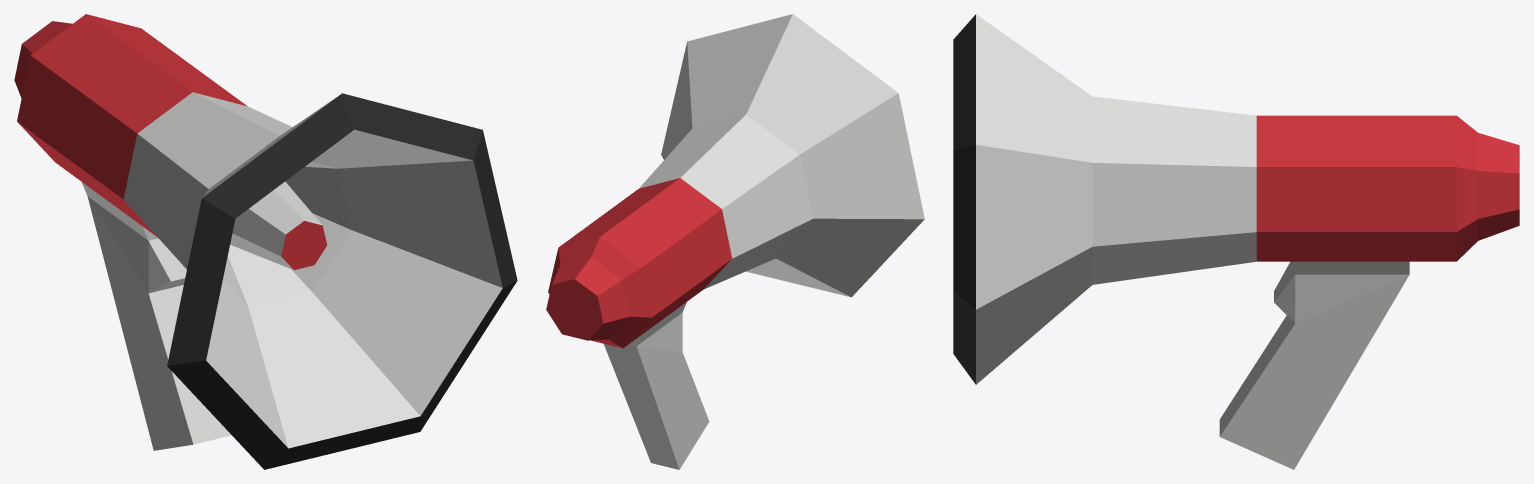
Rendered from props-megaphone.glb.
The picture shows the model from 3 angles, left to right: view 1: azimuth 30°, elevation 25°; view 2: azimuth 150°, elevation 25°; view 3: azimuth 270°, elevation 25°; orthographic projection. The views are drawn at different scales.
Visible parts, largest first — view 1: megaphone; view 2: megaphone; view 3: megaphone.
Boxes of the visible parts, box(x1,y1,x2,y2) form: megaphone: box(14, 14, 517, 469); megaphone: box(546, 14, 924, 469); megaphone: box(953, 14, 1519, 469).
Size of the model in its own units: 0.2553 by 0.3321 by 0.3812.
